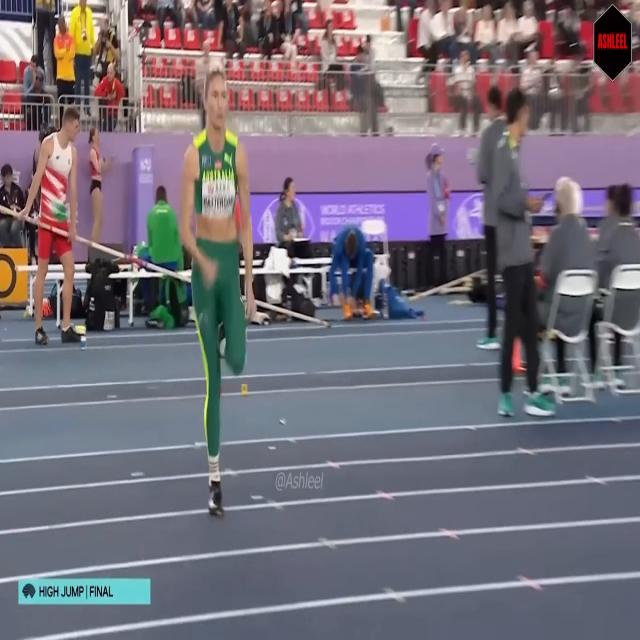run: (177, 58, 257, 514)
